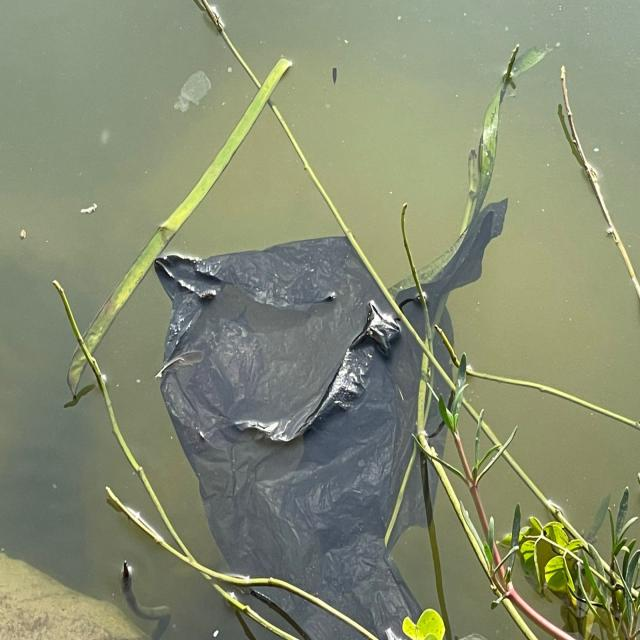Kantong Plastik: (154, 190, 515, 640)
